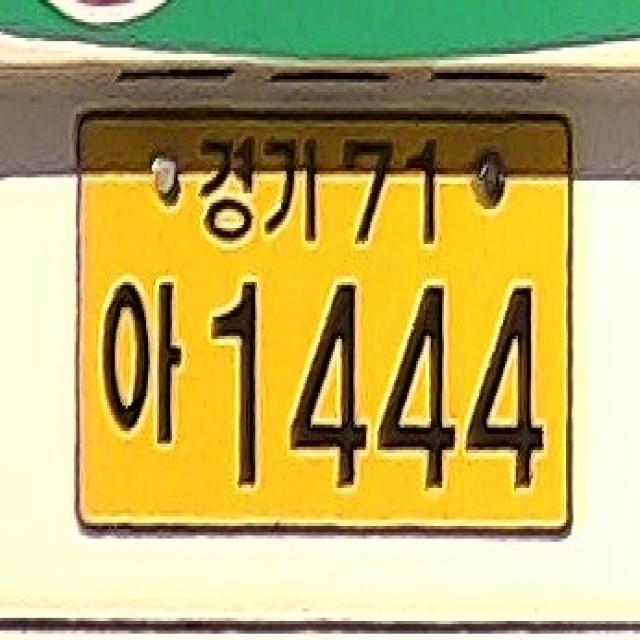plat: (74, 111, 574, 534)
